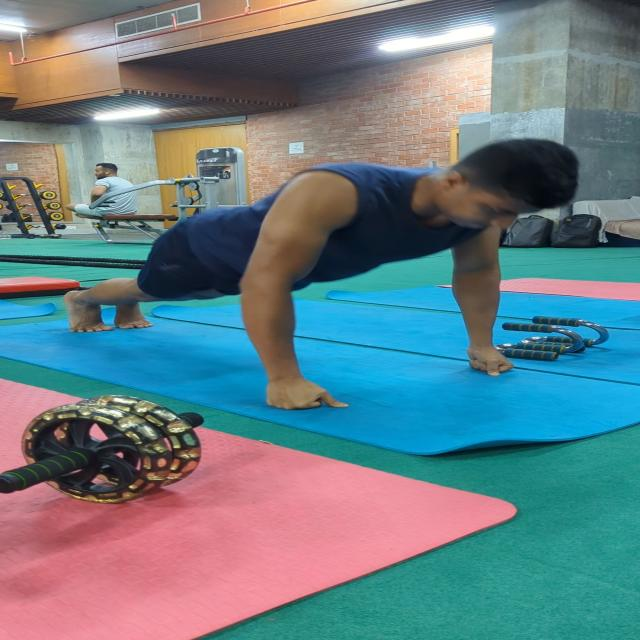Normal_PushUps: (59, 133, 593, 415)
